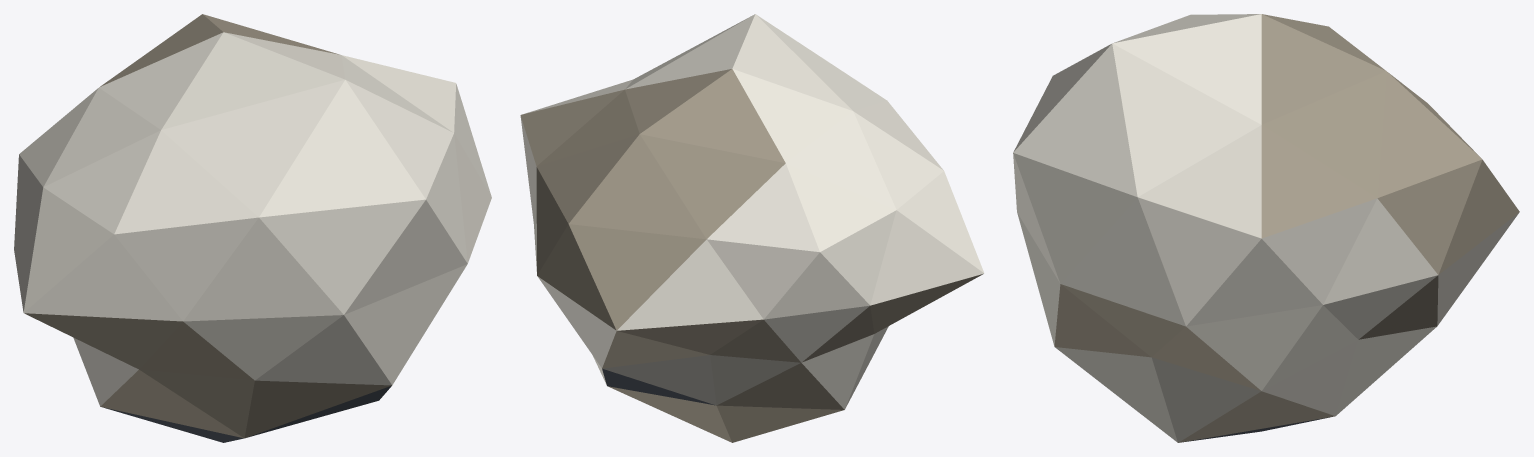
Rendered from crumpled_paper.glb.
3 renders of one model, left to right at view 1: azimuth 30°, elevation 25°; view 2: azimuth 150°, elevation 25°; view 3: azimuth 270°, elevation 25°, orthographic. The views are drawn at different scales.
Parts seen in each view (by area): view 1: crumpled_paper; view 2: crumpled_paper; view 3: crumpled_paper.
Boxes of the visible parts, x1,y1,x2,y2 form: crumpled_paper: (14, 14, 491, 442); crumpled_paper: (520, 14, 984, 442); crumpled_paper: (1013, 14, 1519, 442).
Size of the model in its own units: 0.06 by 0.05 by 0.055.
